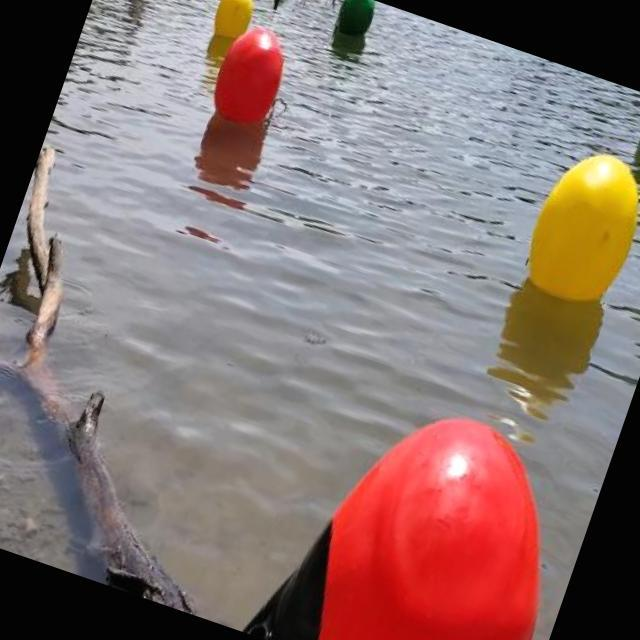buoy: (235, 367, 594, 640), (515, 135, 640, 313), (205, 20, 294, 134), (208, 0, 258, 42), (332, 0, 378, 41)
